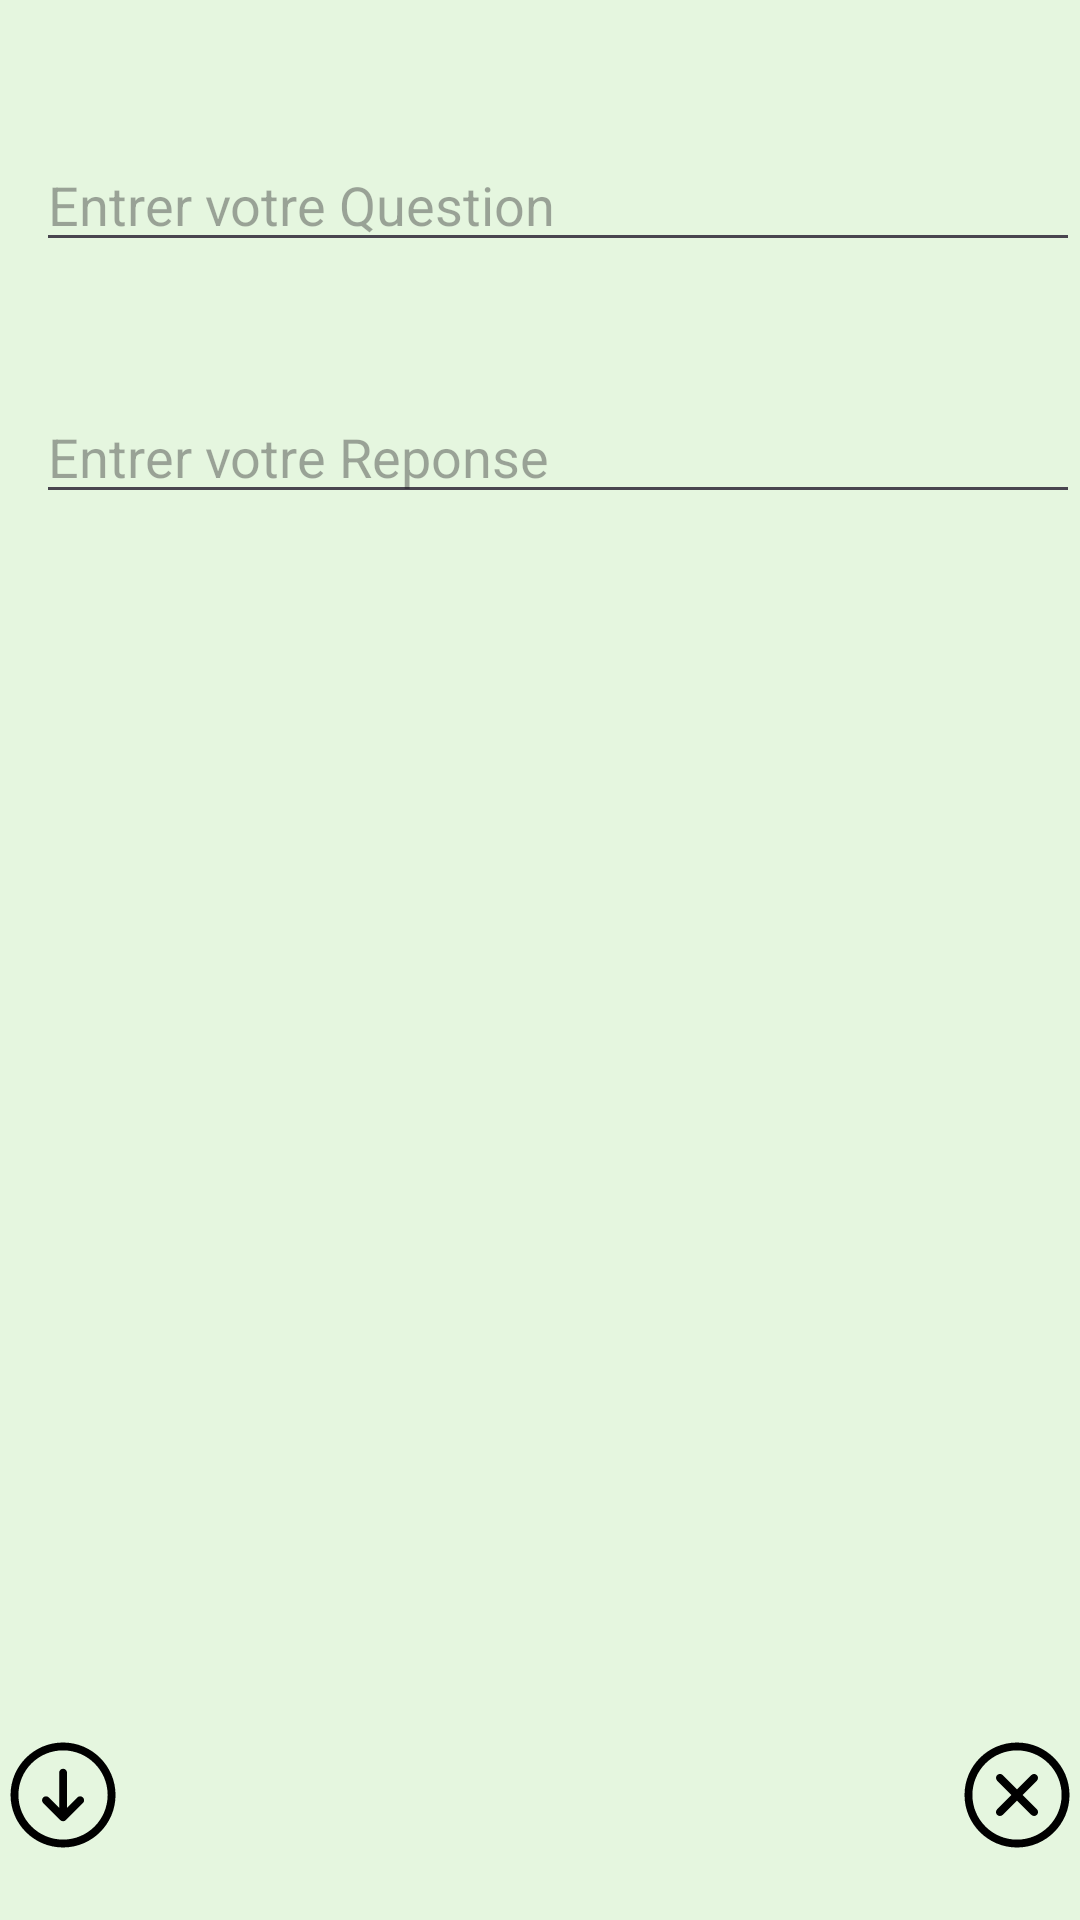

Locate icon controls on the screen. Image size 1080 x 1920, boxes as (x1, y1, x2, y2).
cancel: (964, 1742, 1070, 1848)
